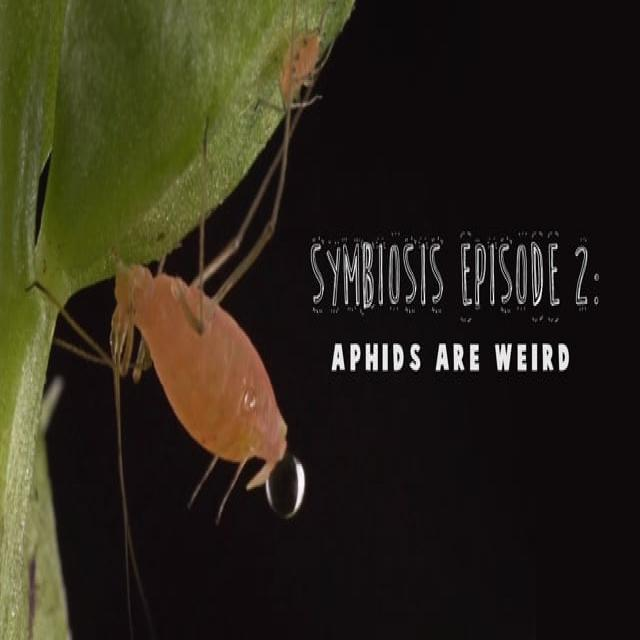Aphid-Grown-: (94, 227, 302, 520)
